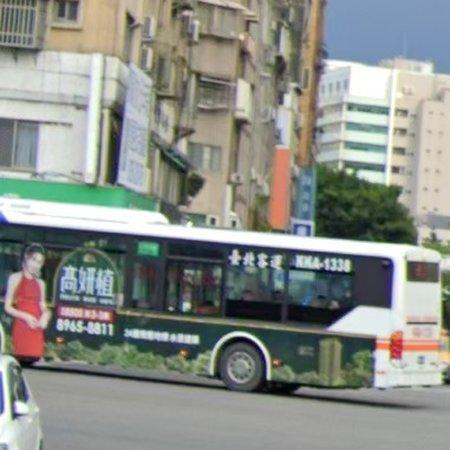buses: (0, 198, 444, 392)
